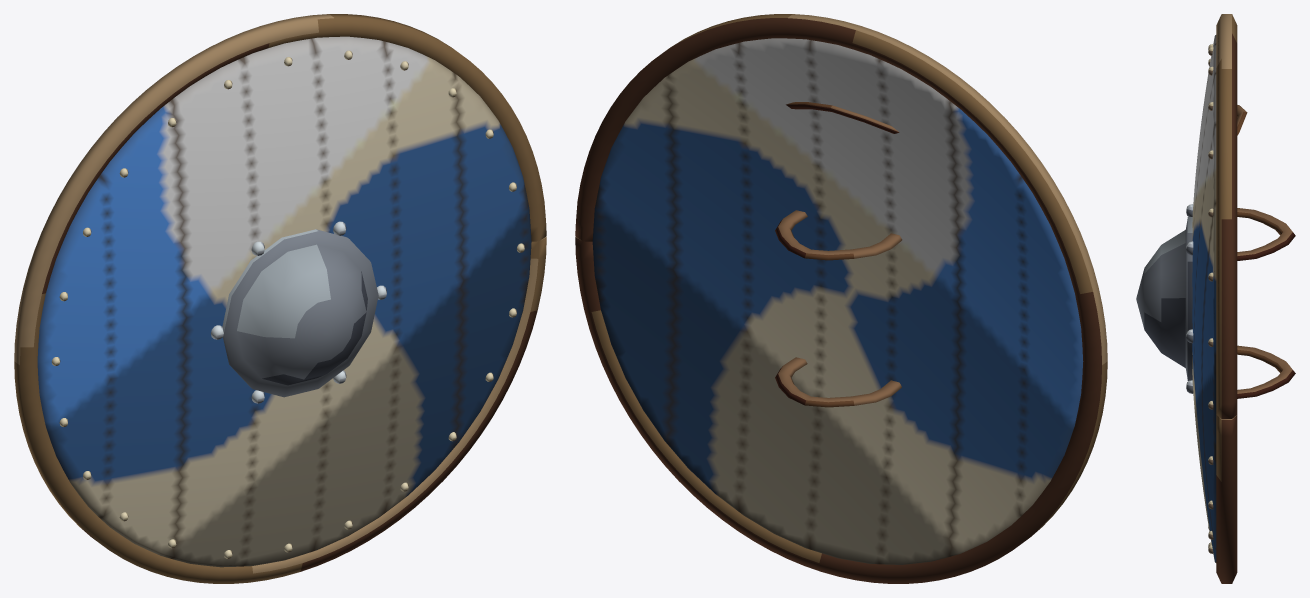
Rendered from sh_round_shield.glb.
3 views of the same model, side by side, from view 1: azimuth 30°, elevation 25°; view 2: azimuth 150°, elevation 25°; view 3: azimuth 270°, elevation 25° (orthographic). The views are drawn at different scales.
Visible parts, largest first — view 1: Weapon; view 2: Weapon; view 3: Weapon.
Boxes of the visible parts, x1,y1,x2,y2 form: Weapon: [14, 14, 546, 583]; Weapon: [575, 14, 1107, 583]; Weapon: [1136, 14, 1295, 583].
Size of the model in its own units: 0.5625 by 0.5625 by 0.1576.
